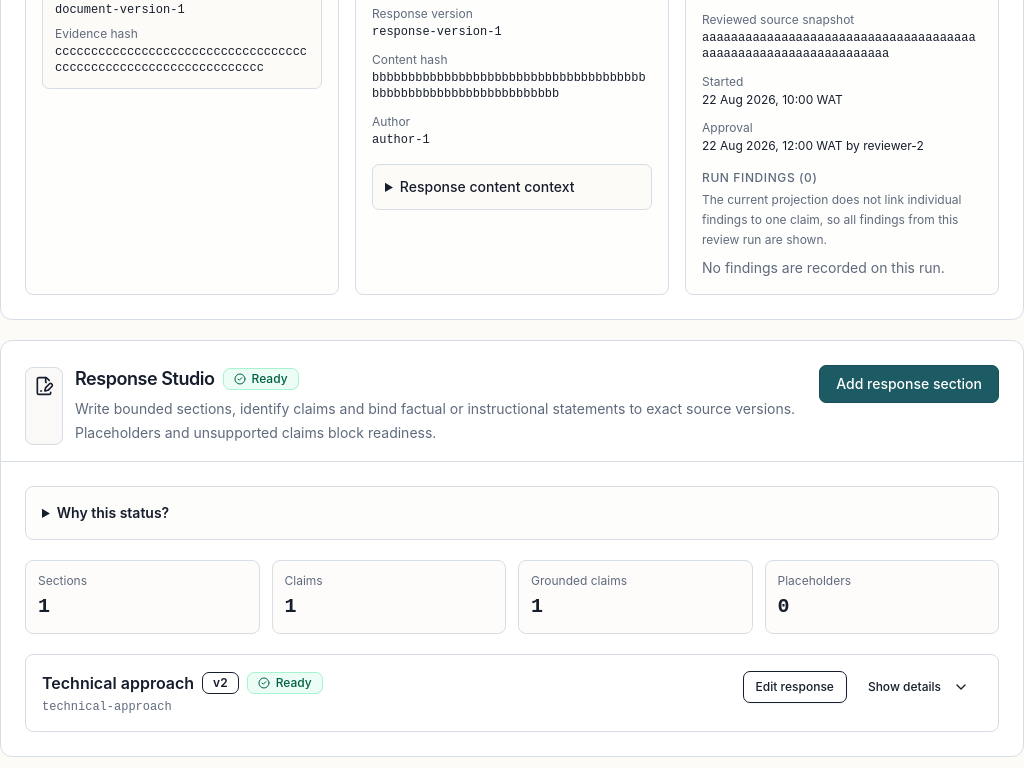
Test: DeliveryStudioTab › keeps a rejected response action visible inside its open dialog
(page scrolled)
Click the button "Add response section" at [909, 384], box [819,365,999,403]
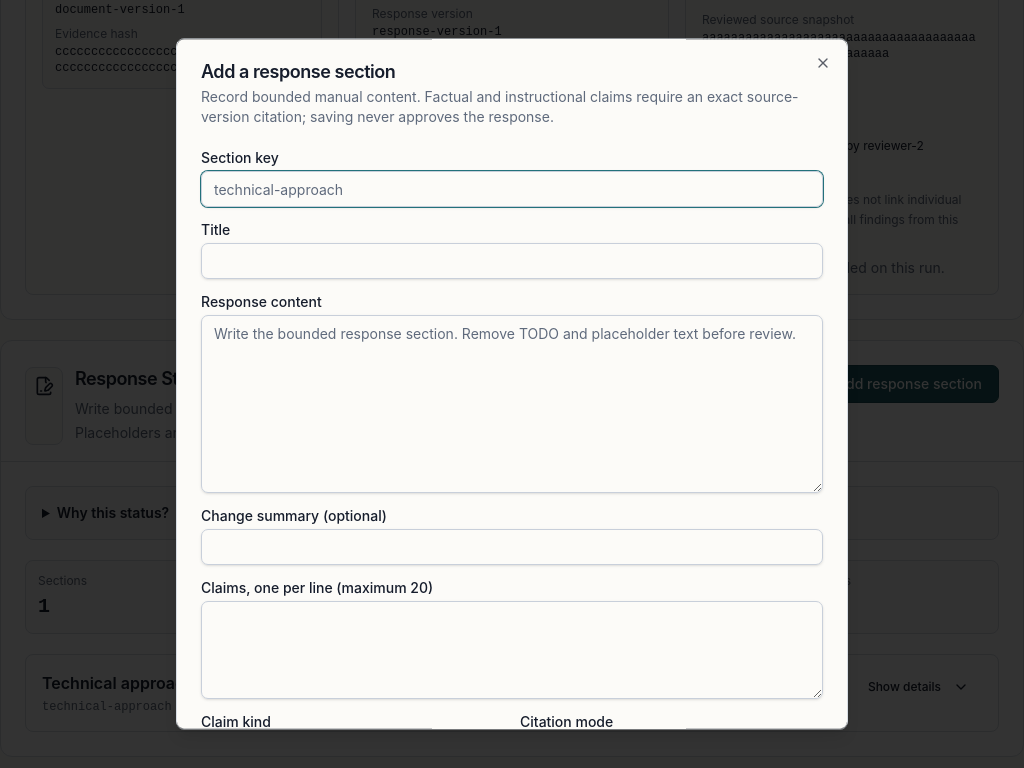
Type "delivery-plan" into the field labelled "Section key" at [512, 189], box [201,171,823,207]
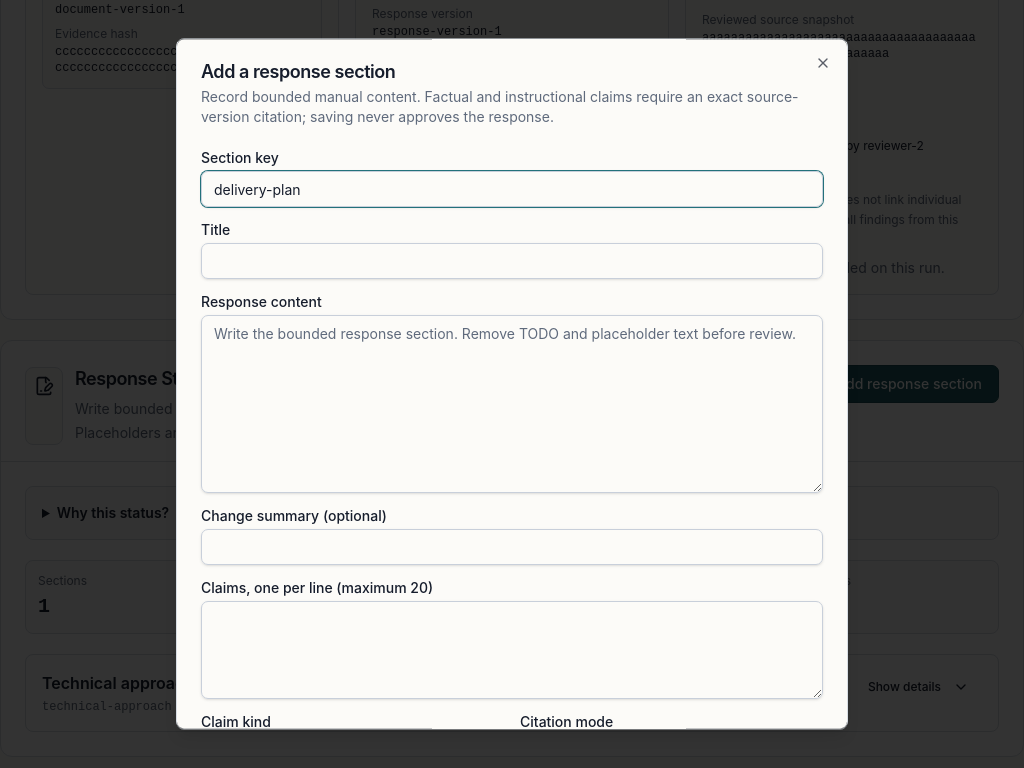
Type "Delivery plan" into the field labelled "Title" at [512, 261], box [201,243,823,279]
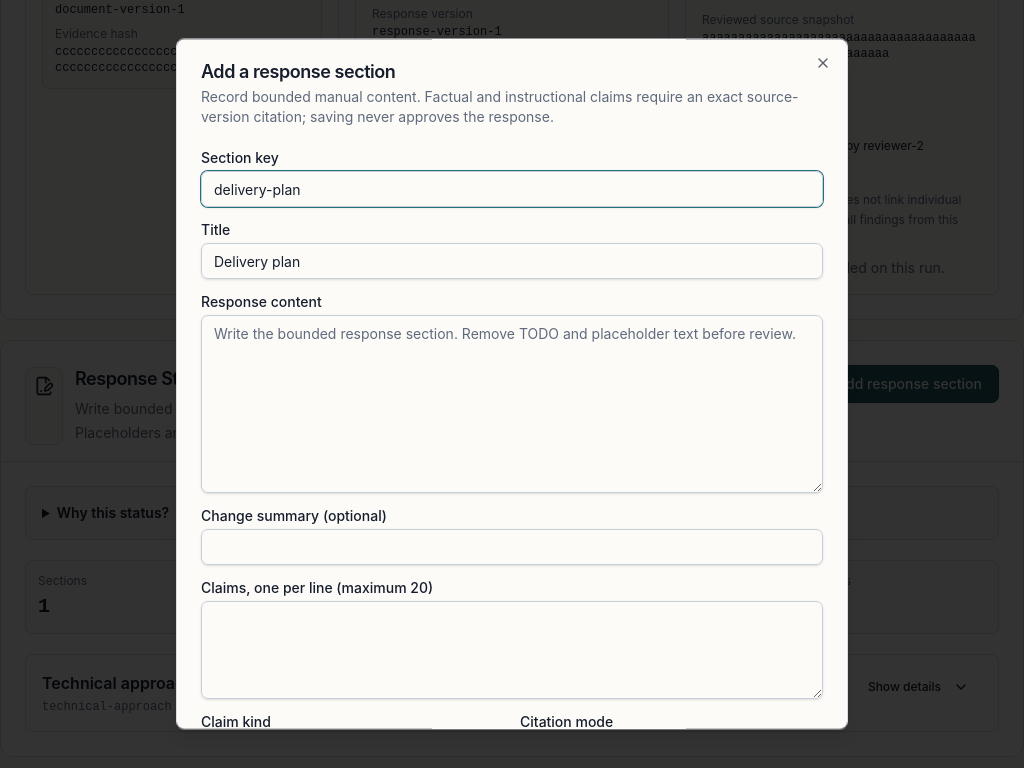
Replace the text in the text box labelled "Response content" with "Reviewed response content." at [512, 404], box [201,315,823,493]
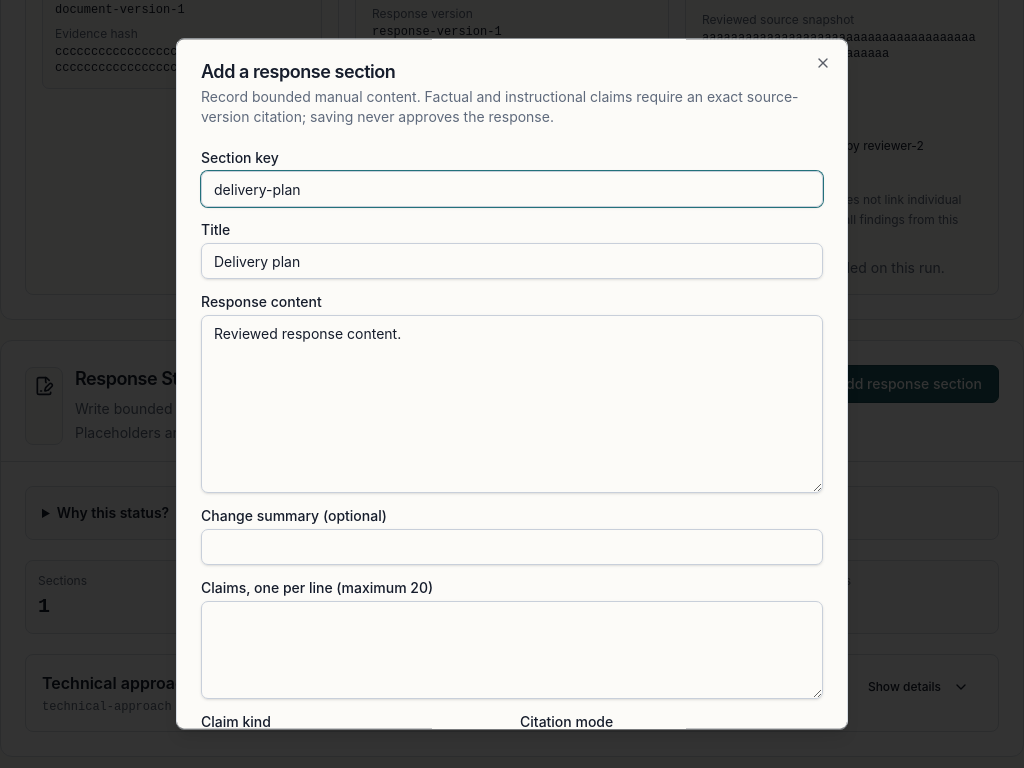
Type "This is a reviewer opinion." into the text box labelled "Claims, one per line (maximum 20)" at [512, 650], box [201,601,823,699]
(page scrolled)
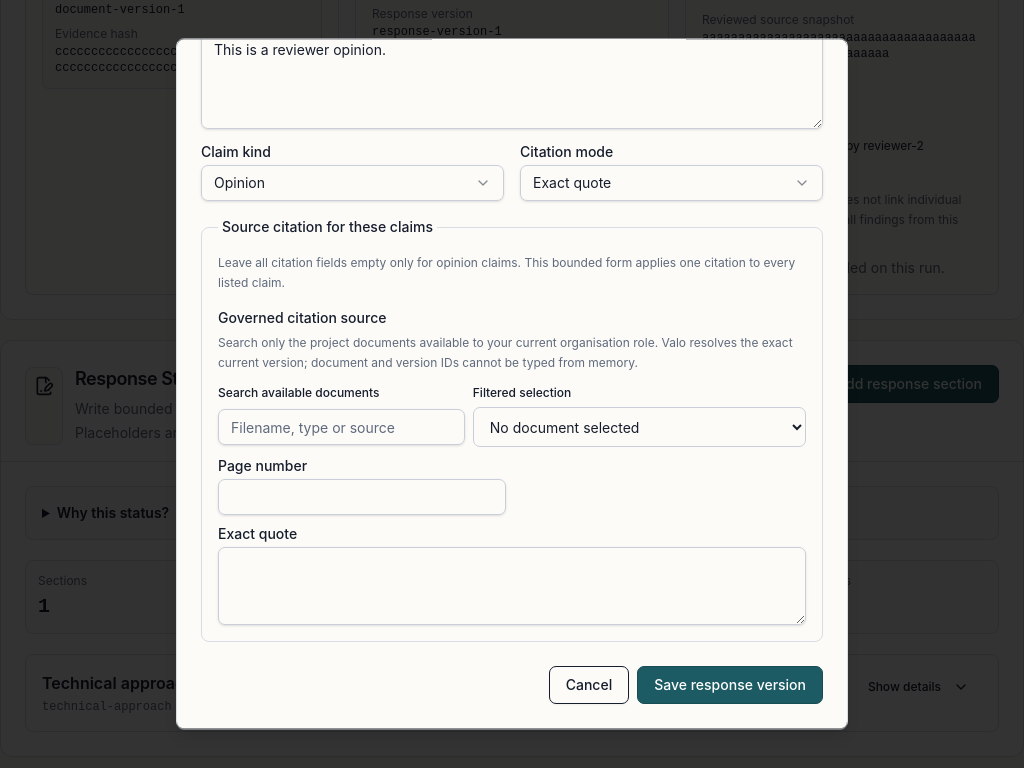
Click the button "Save response version" at [730, 685], box [637,666,823,704]
(page scrolled)
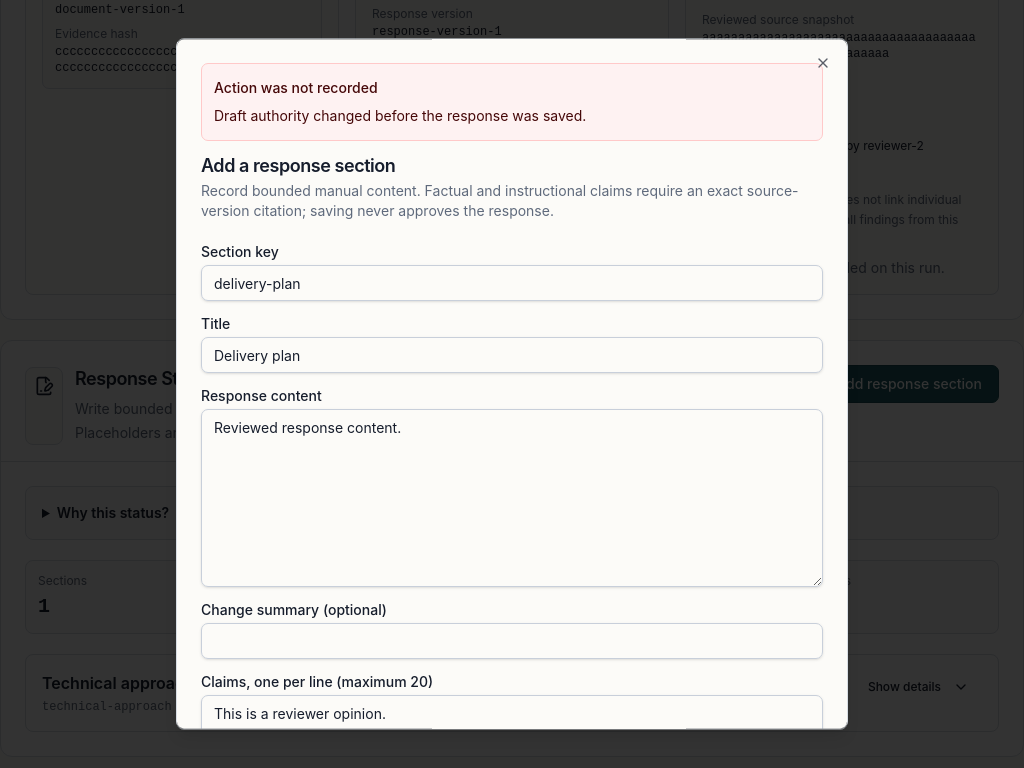
Expected: the message shows "Draft authority changed before the response was saved.", [214,107,586,124]
Expected: the heading "Add a response section" is shown, [201,155,395,176]
